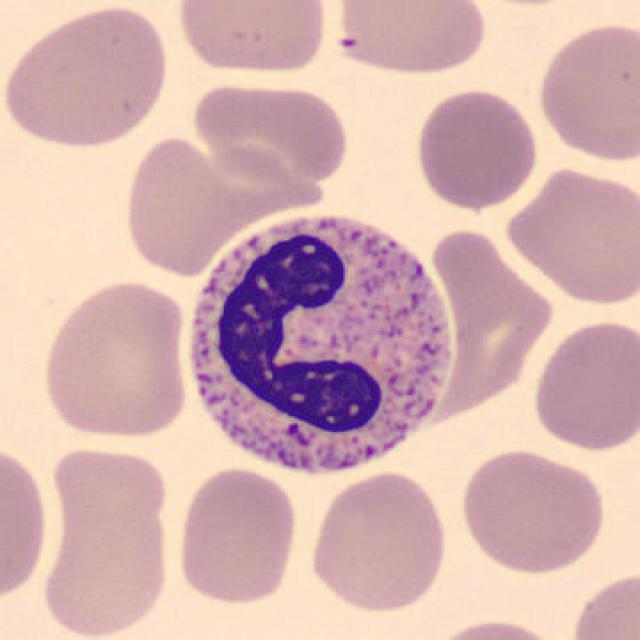Neutrophil: (172, 201, 462, 494)
RBC: (420, 226, 560, 428), (0, 2, 174, 152), (37, 277, 194, 442), (36, 481, 174, 640), (304, 469, 452, 615), (500, 162, 638, 309), (457, 444, 610, 576), (188, 76, 352, 196), (172, 464, 300, 608), (119, 132, 233, 279), (412, 85, 542, 212), (534, 18, 638, 164), (528, 315, 636, 455), (330, 0, 490, 78), (172, 0, 330, 78), (48, 443, 171, 541), (0, 439, 52, 607), (565, 566, 640, 640), (425, 615, 569, 640)
